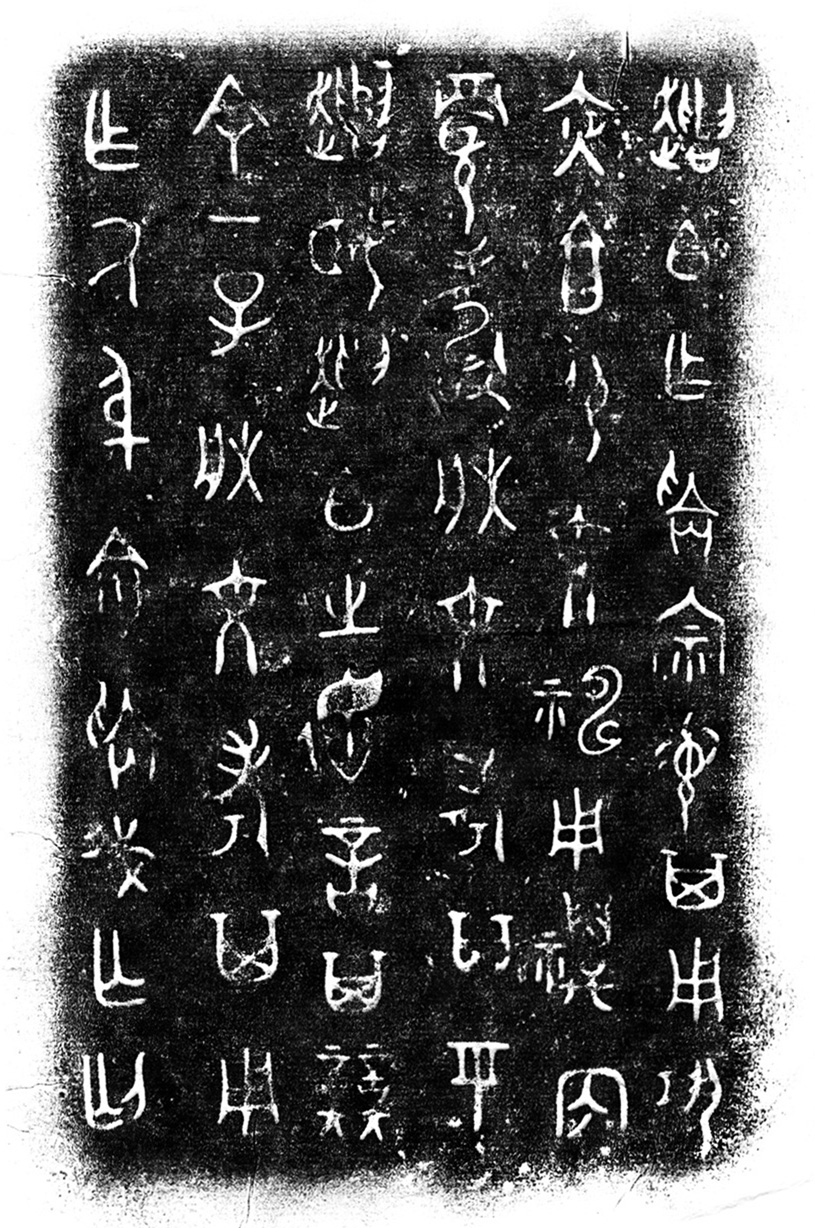char: (419, 43, 520, 253), (80, 1040, 211, 1184), (283, 43, 430, 162), (515, 339, 648, 470), (512, 896, 651, 1020), (189, 719, 301, 868), (172, 57, 290, 195), (301, 316, 427, 442), (502, 201, 632, 320), (399, 447, 532, 563), (646, 432, 773, 553), (421, 280, 534, 413), (645, 1047, 769, 1168), (290, 1043, 399, 1175), (518, 1051, 653, 1157), (401, 1038, 521, 1157), (418, 758, 521, 896), (310, 807, 419, 935), (290, 666, 404, 788), (67, 331, 161, 477), (653, 56, 758, 185), (60, 513, 169, 636), (640, 582, 771, 680), (526, 57, 632, 178), (191, 255, 290, 384), (518, 652, 631, 765), (78, 197, 189, 311), (168, 406, 280, 517), (188, 539, 271, 686), (66, 679, 169, 797), (641, 313, 764, 406), (648, 207, 779, 293), (412, 589, 509, 704), (71, 818, 185, 910), (653, 706, 750, 814), (200, 1038, 288, 1156), (534, 503, 623, 618), (56, 930, 168, 1021), (75, 57, 168, 165), (644, 838, 779, 909), (185, 907, 291, 995), (290, 555, 408, 633), (657, 938, 753, 1033), (524, 780, 626, 869), (291, 206, 398, 280), (302, 945, 391, 1031), (310, 469, 412, 541), (418, 905, 504, 981), (193, 203, 282, 250)
